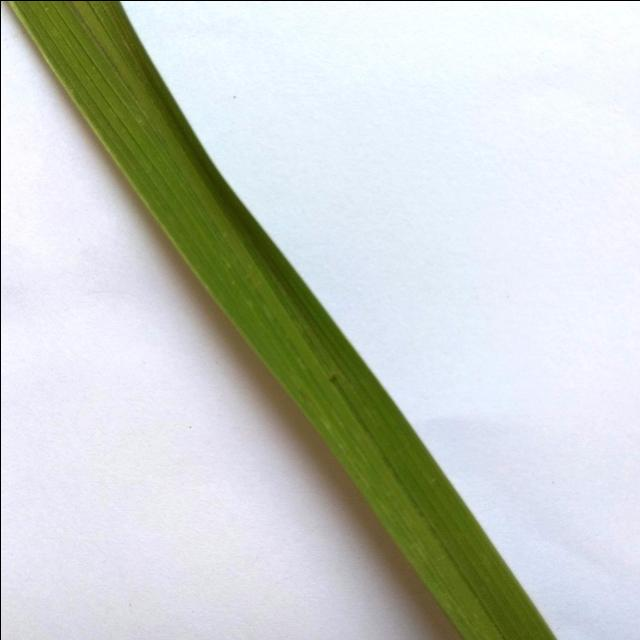healthy: (3, 0, 640, 640)
